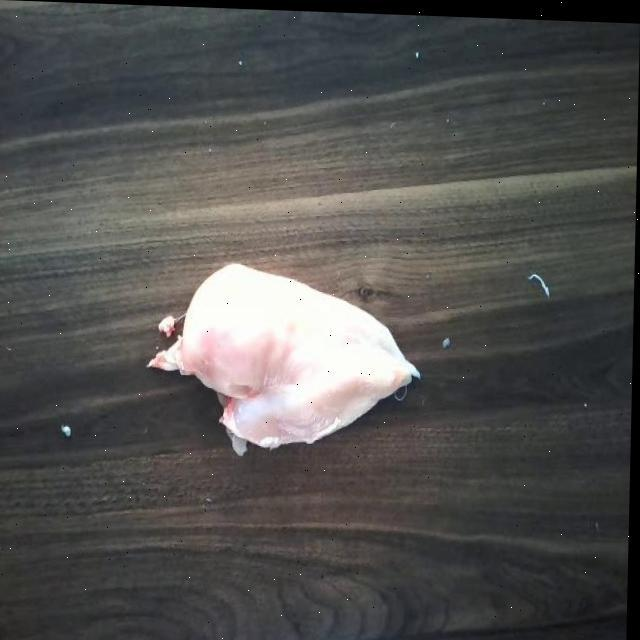breast: (173, 256, 417, 437)
